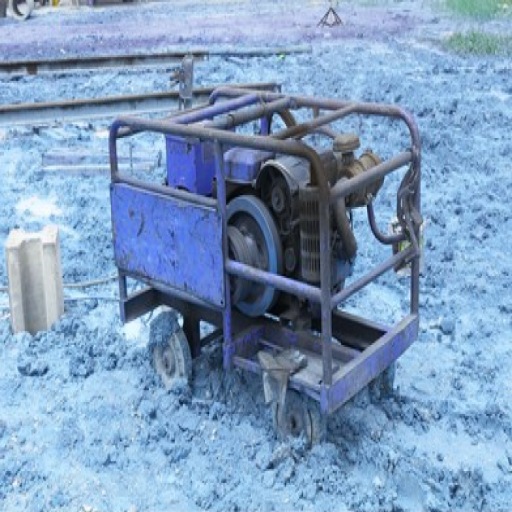portable_generator: (108, 88, 423, 406)
